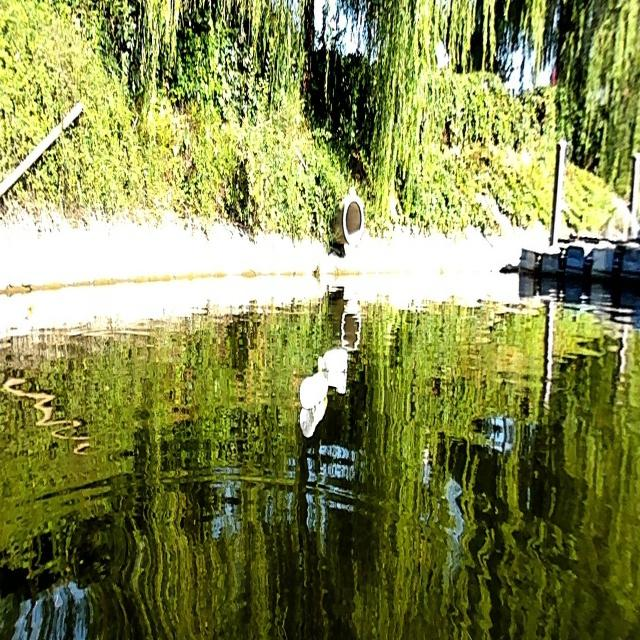bottle: (297, 371, 327, 404), (320, 347, 348, 370)
